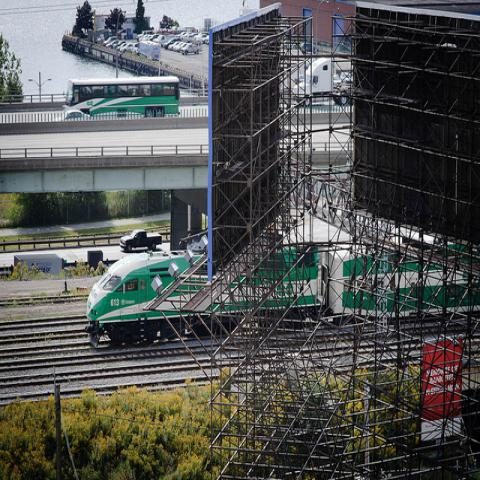bus: (64, 82, 176, 119)
car: (51, 108, 90, 122), (166, 36, 179, 54), (164, 38, 181, 49), (196, 32, 208, 44), (102, 36, 116, 46), (172, 42, 184, 52), (177, 42, 187, 52), (106, 38, 116, 48), (115, 39, 126, 48), (120, 44, 132, 52), (153, 36, 164, 44), (139, 34, 149, 42), (142, 35, 154, 41)
truck: (305, 56, 352, 104), (14, 253, 64, 278), (119, 230, 162, 252), (181, 44, 200, 55)
